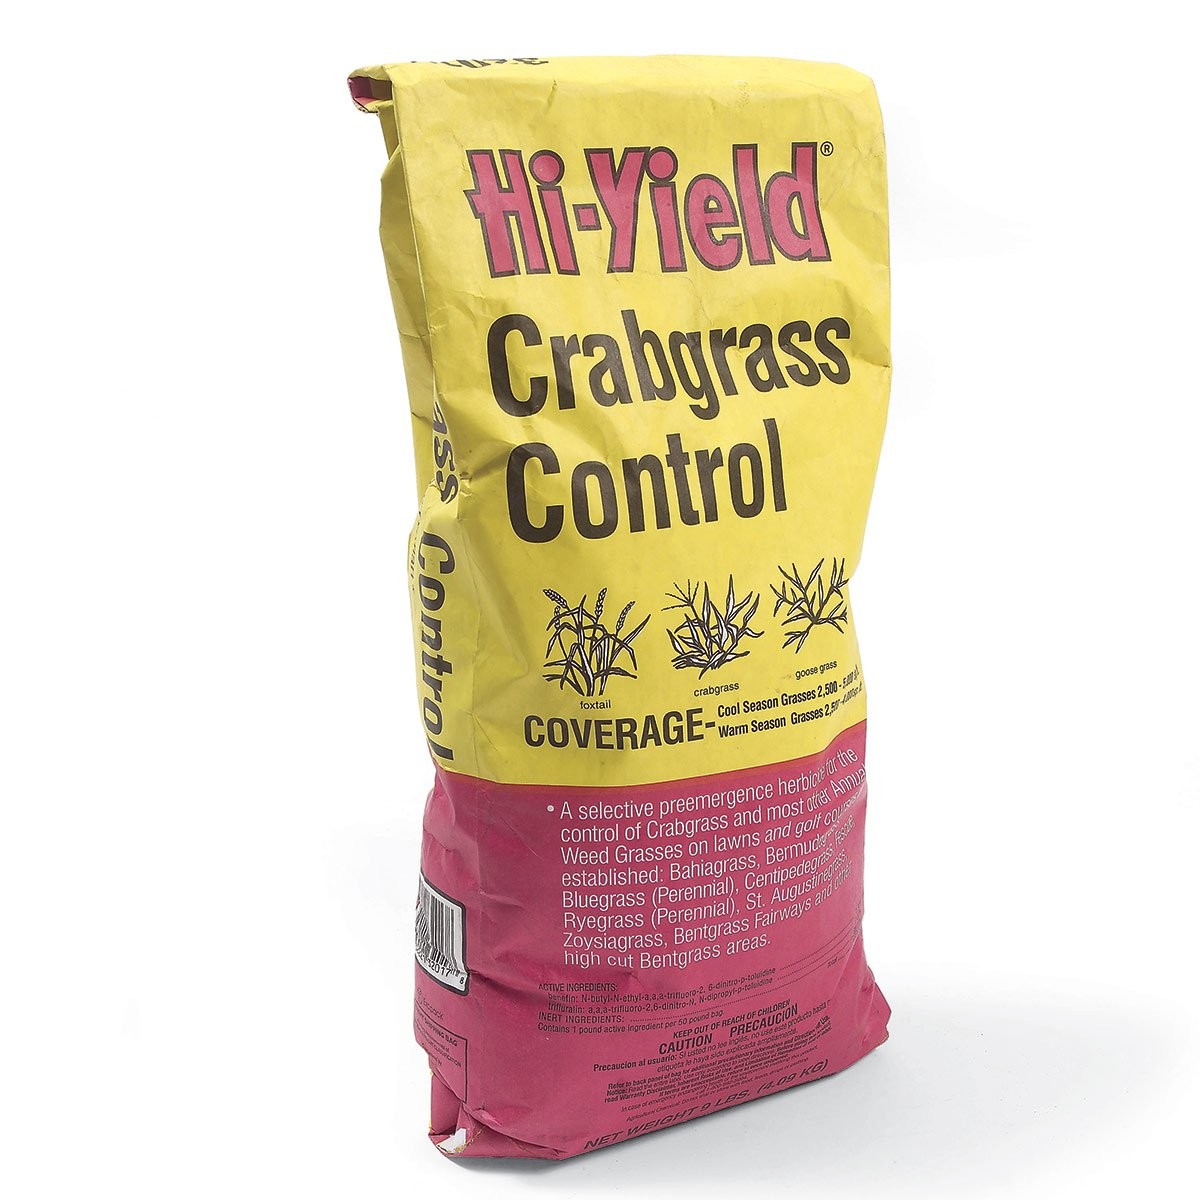crabgrass: (645, 584, 764, 677)
